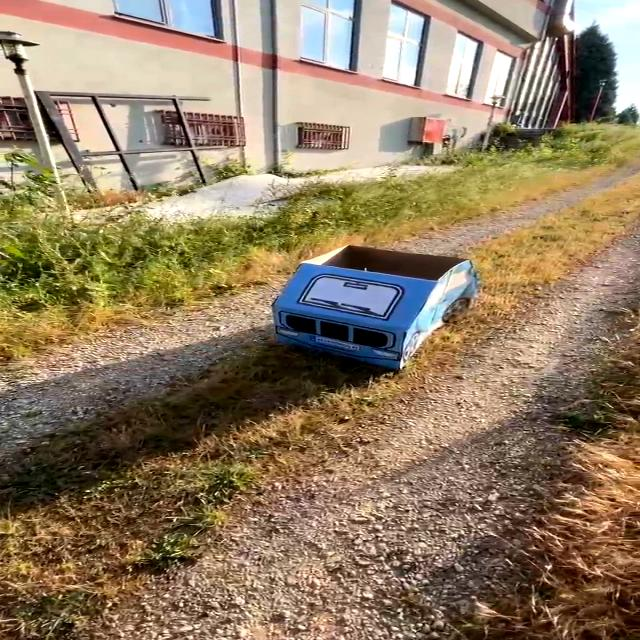blue_car: (210, 226, 512, 399)
